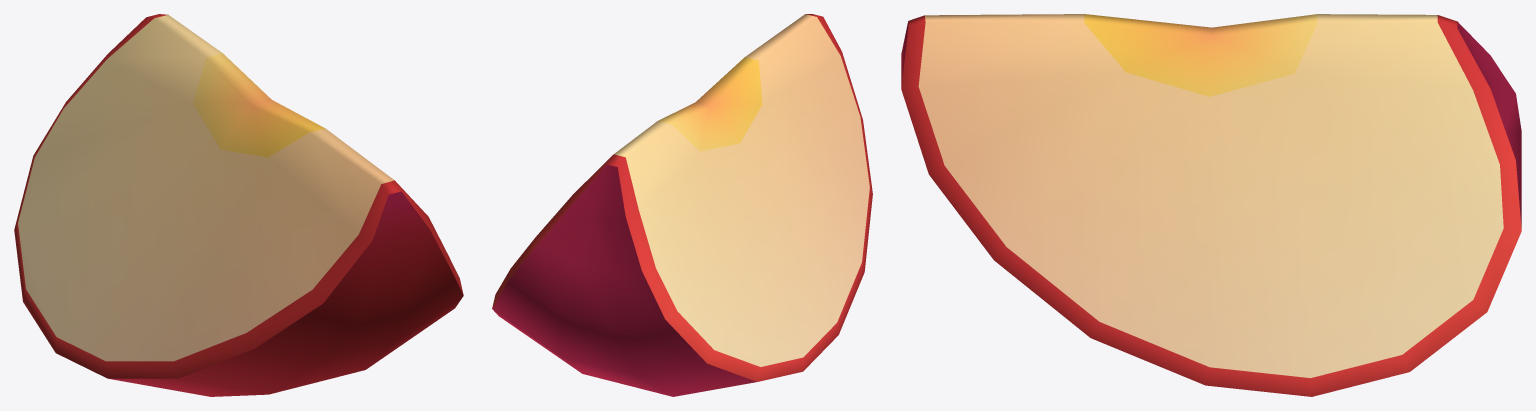
Rendered from apple_005.fbx.
3 renders of one model, left to right at view 1: azimuth 30°, elevation 25°; view 2: azimuth 150°, elevation 25°; view 3: azimuth 270°, elevation 25°, orthographic. The views are drawn at different scales.
Visible parts, largest first — view 1: apple_005; view 2: apple_005; view 3: apple_005.
Part boxes in pixels (bbox=[...]): apple_005: bbox=[14, 14, 463, 396]; apple_005: bbox=[492, 14, 872, 396]; apple_005: bbox=[901, 14, 1521, 396].
Bounding box in the file's own units: 5.46 × 7.92 × 4.81.
